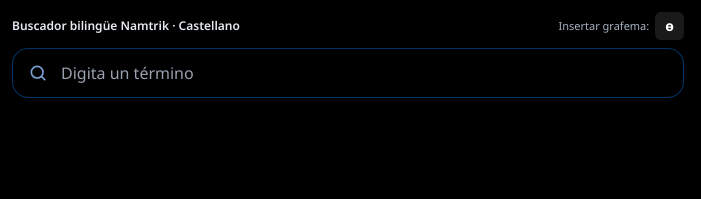
SearchBox › muestra insignia "Equivalencia" cuando campoCoincidencia es "equivalencia" (Spec 012)
Step 1. Type "estrella" into the dropdown → (348, 73), box [12,48,684,98]
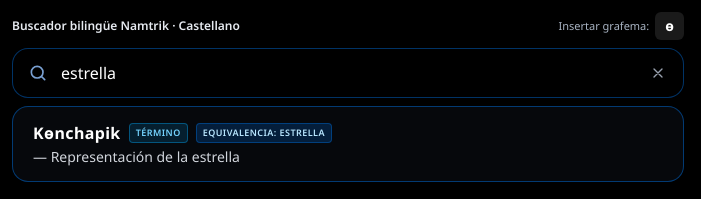
Expected: the text "Kɵnchapik" is shown, [33,121,121,145]
Expected: the text "Equivalencia: estrella" is shown, [196,123,332,143]
